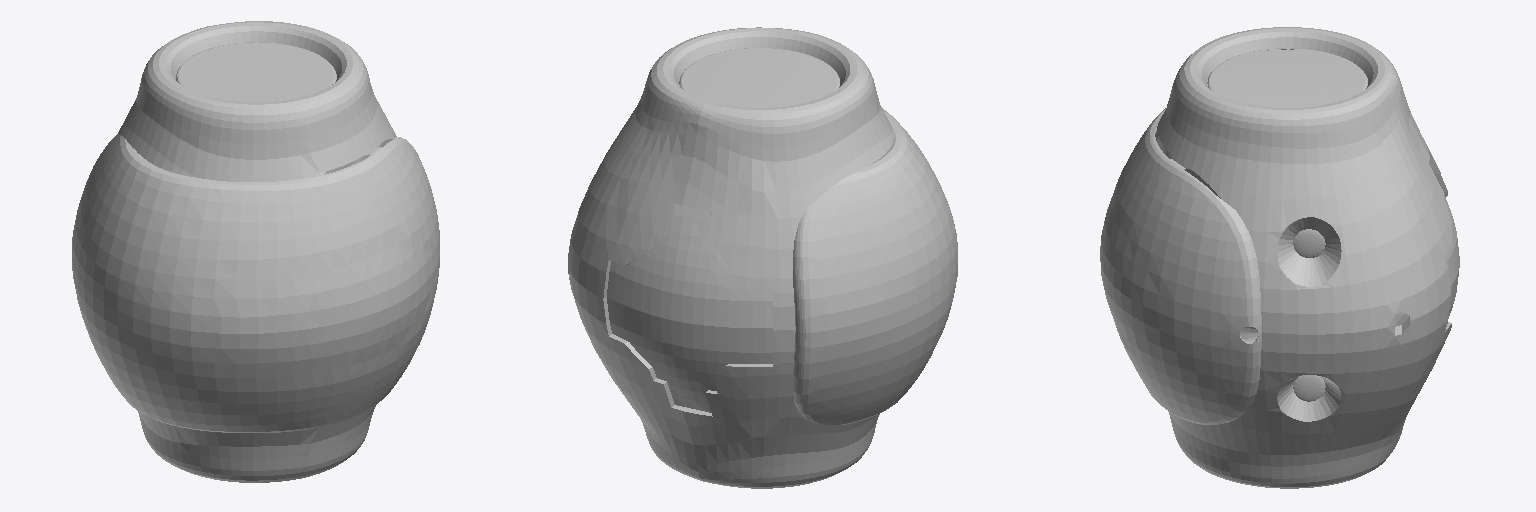
The model's file is HeadPitch.obj.
The picture shows the model from 3 angles: view 1: azimuth 30°, elevation 25°; view 2: azimuth 150°, elevation 25°; view 3: azimuth 270°, elevation 25°; orthographic projection.
Parts seen in each view (by area): view 1: root; view 2: root; view 3: root.
Boxes of the visible parts, x1=… form: root: x1=72, y1=21, x2=439, y2=482; root: x1=568, y1=27, x2=957, y2=488; root: x1=1100, y1=27, x2=1459, y2=488.
Bounding box in the file's own units: 119 × 133 × 114.